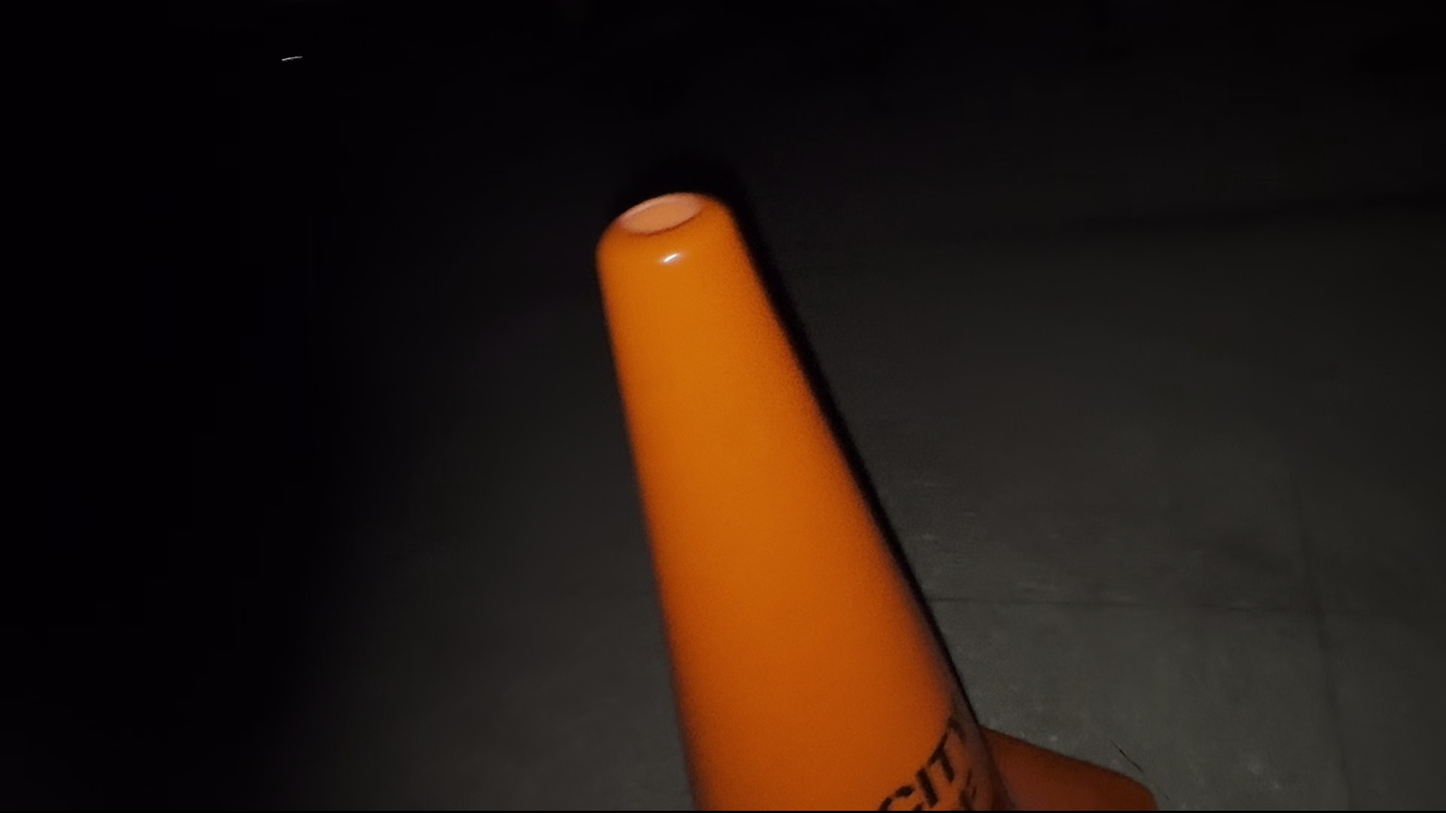traffic_cone: (593, 189, 1158, 811), (593, 189, 1016, 811)
